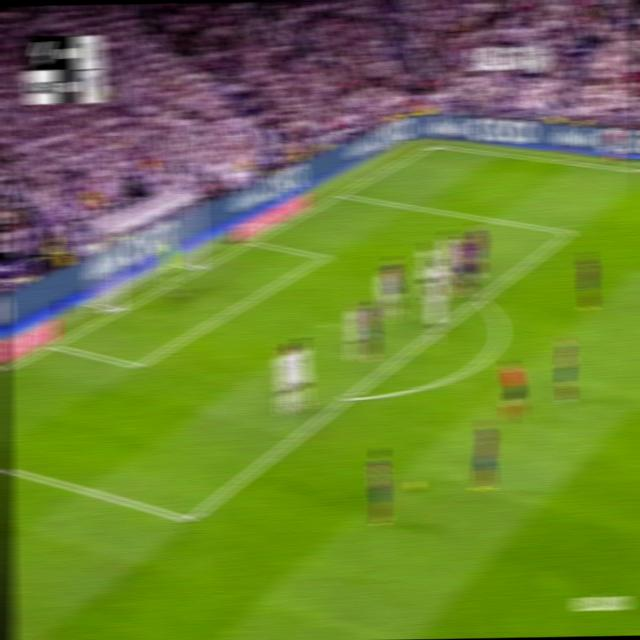bigarea_bottom_inner: (179, 504, 198, 534)
bigarea_top_inner: (561, 220, 575, 240)
bigarea_top_outter: (333, 187, 347, 200)
bottom_arc_area_intersection: (341, 386, 357, 406)
corner: (424, 140, 438, 148)
smallarea_bottom_inner: (130, 354, 145, 376)
smallarea_top_inner: (316, 248, 329, 263)
top_arc_area_intersection: (471, 288, 487, 306)
